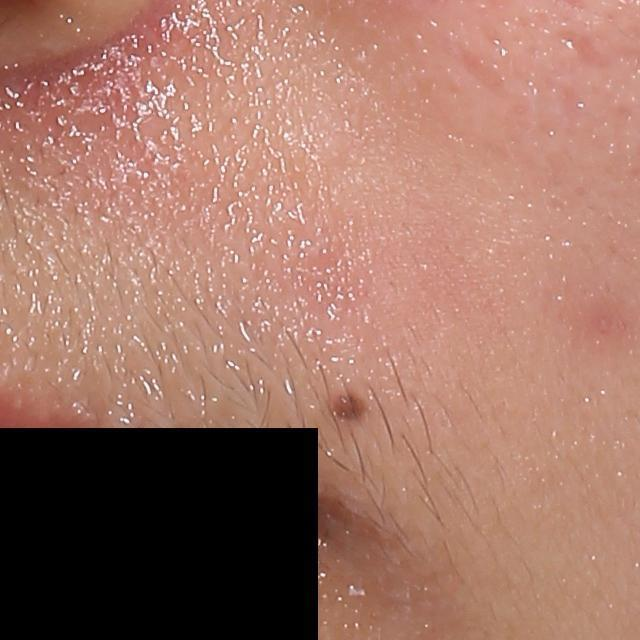atrophic_scar: (451, 44, 513, 96), (557, 29, 618, 68)
nevus: (323, 389, 372, 427)
